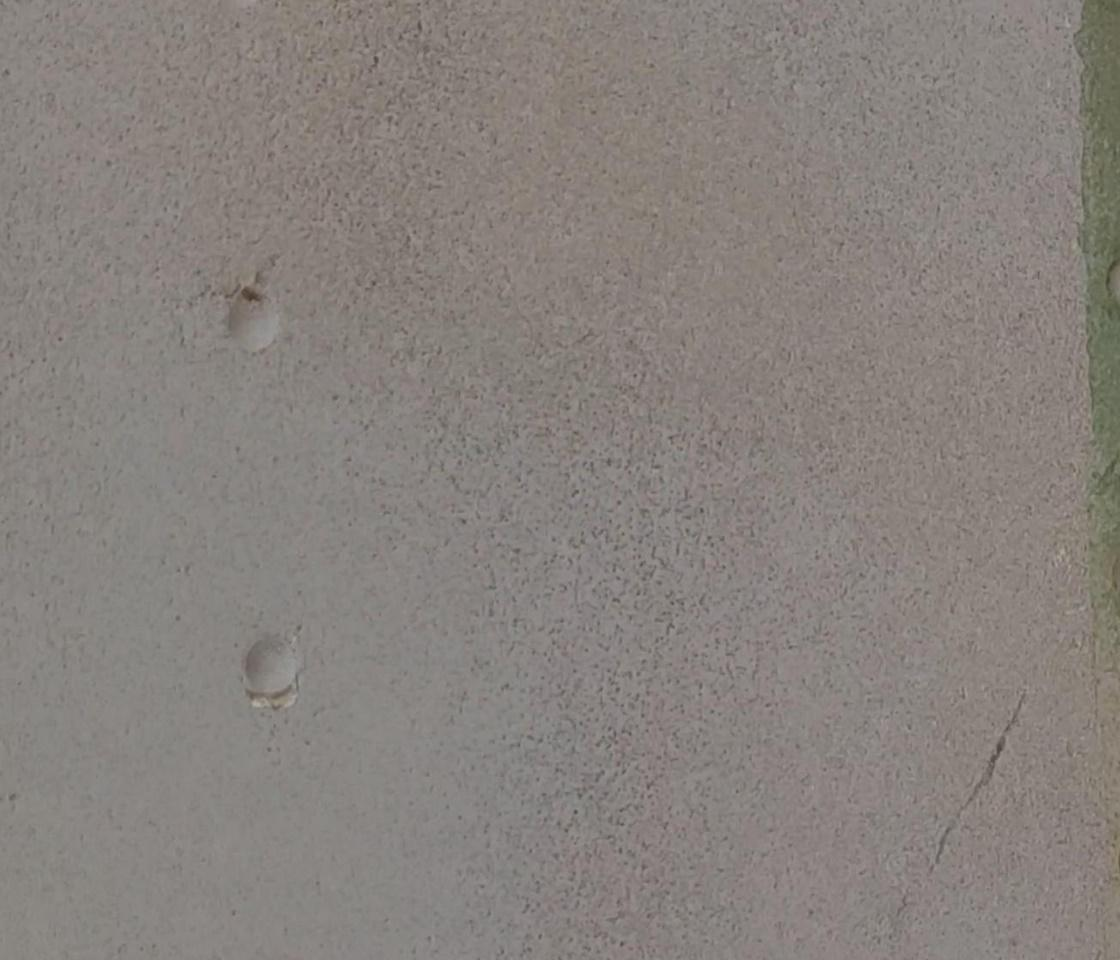scratch: (928, 689, 1026, 875)
